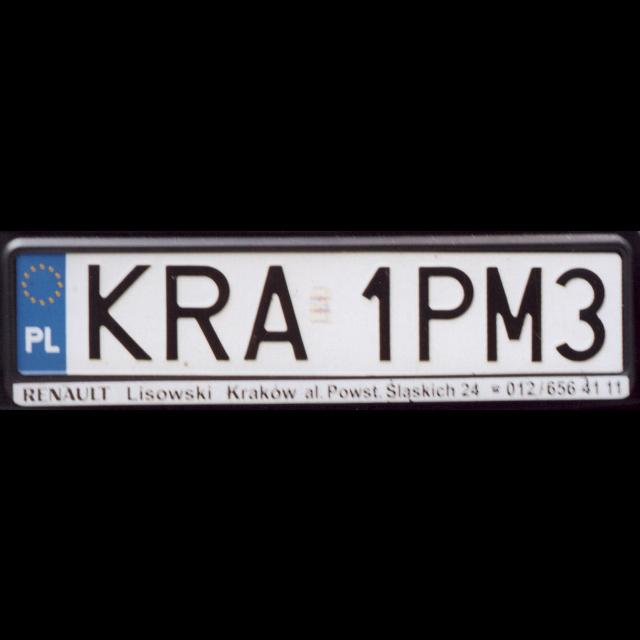pl_license_plate: (17, 252, 623, 371)
